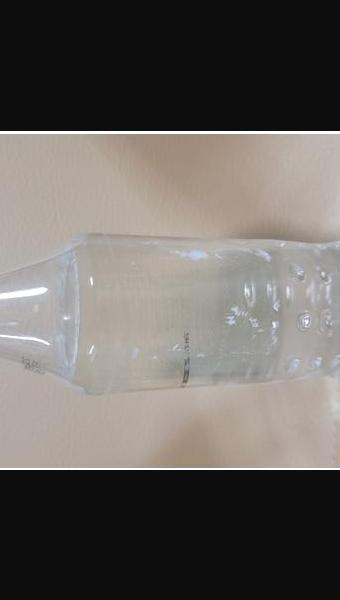bottle: (0, 237, 340, 386)
